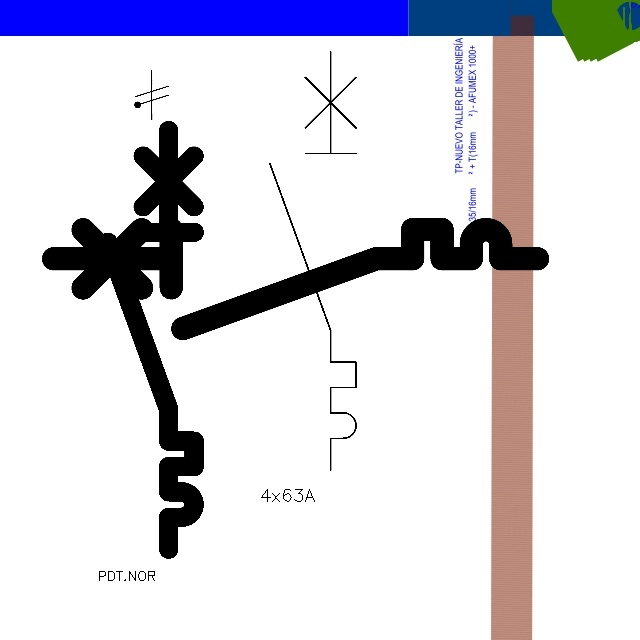interruptor_termomagnetico: (41, 217, 550, 341), (259, 41, 367, 481), (97, 119, 205, 559)
